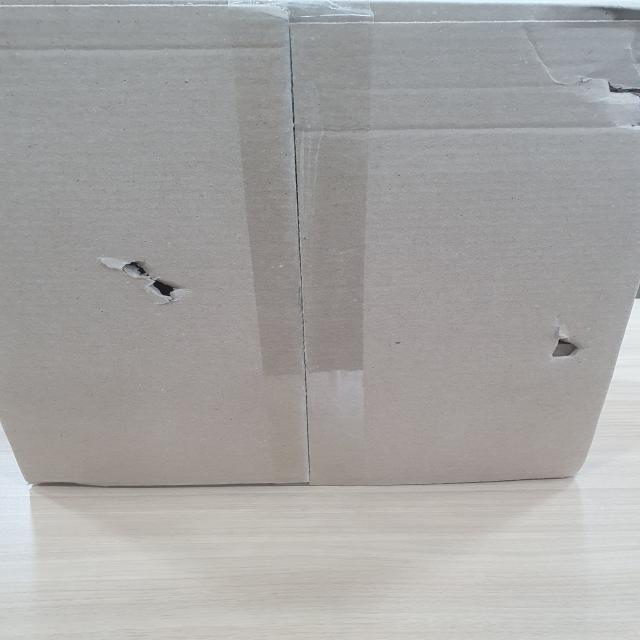hole: (117, 253, 190, 304), (540, 330, 596, 364)
